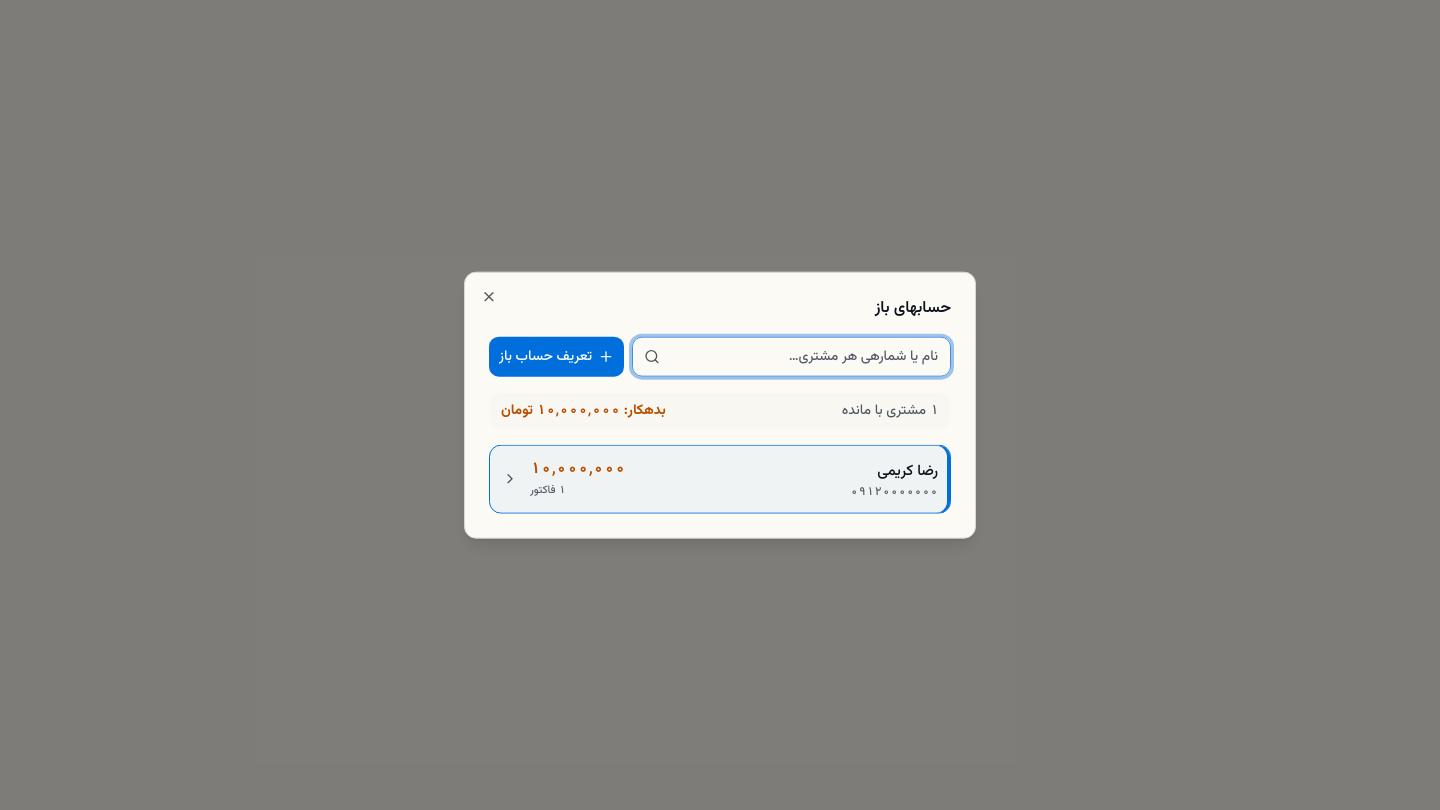
it: حساب‌بازها — اصلاح نحوهٔ پرداخت › از پروندهٔ حساب، پنلِ اصلاحِ تقسیمِ پرداخت باز می‌شود
ردیفِ فهرست ← پروندهٔ حساب ← دکمهٔ «نحوهٔ پرداخت» روی همان نوبت.
Click the button "رضا کریمی ۰۹۱۲۰۰۰۰۰۰۰ ۱۰٬۰۰۰٬۰۰۰ ۱ فاکتور".
click(908, 471)  # box top-left (489, 445), bottom-right (951, 513)
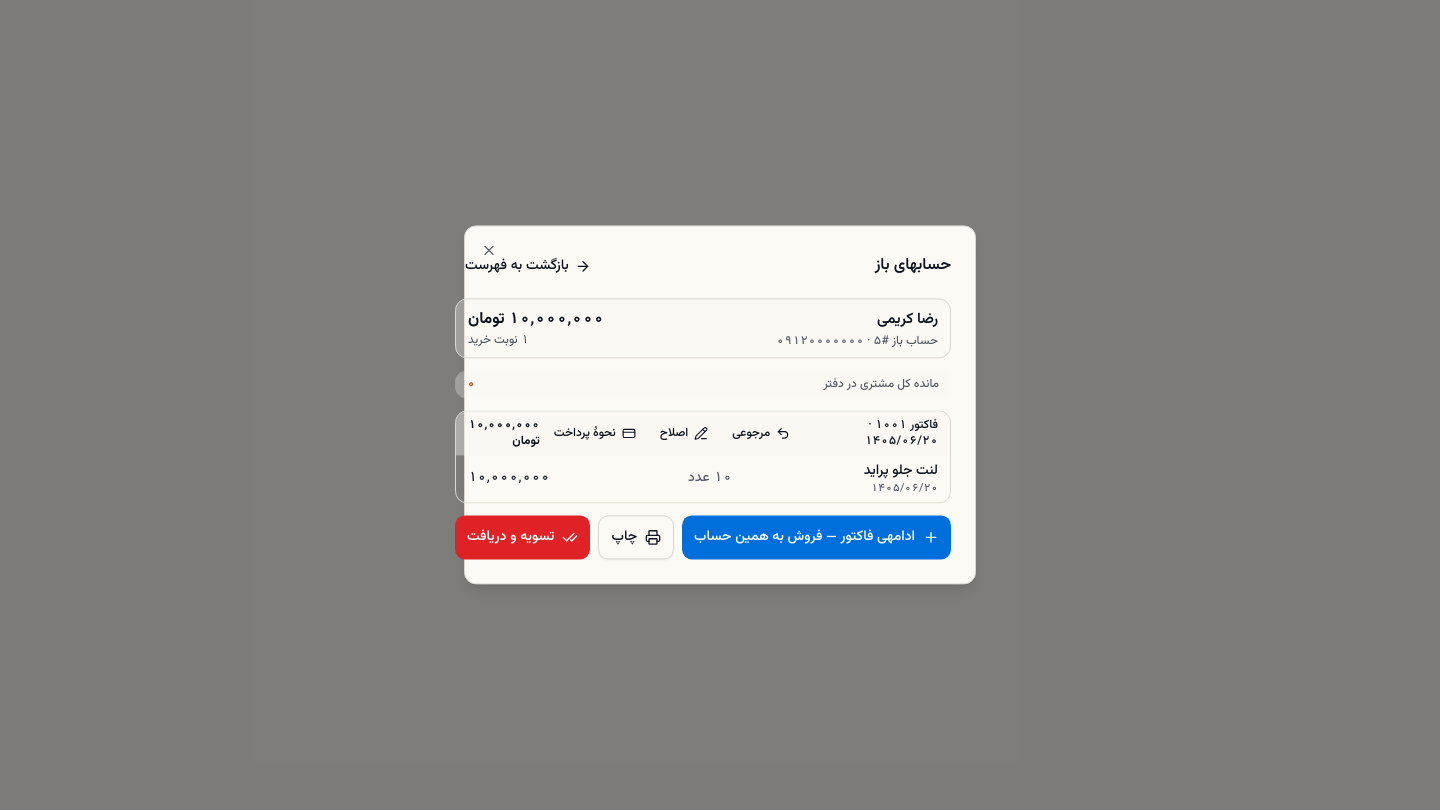
Click the button "نحوهٔ پرداخت".
click(595, 433)  # box top-left (544, 419), bottom-right (646, 447)
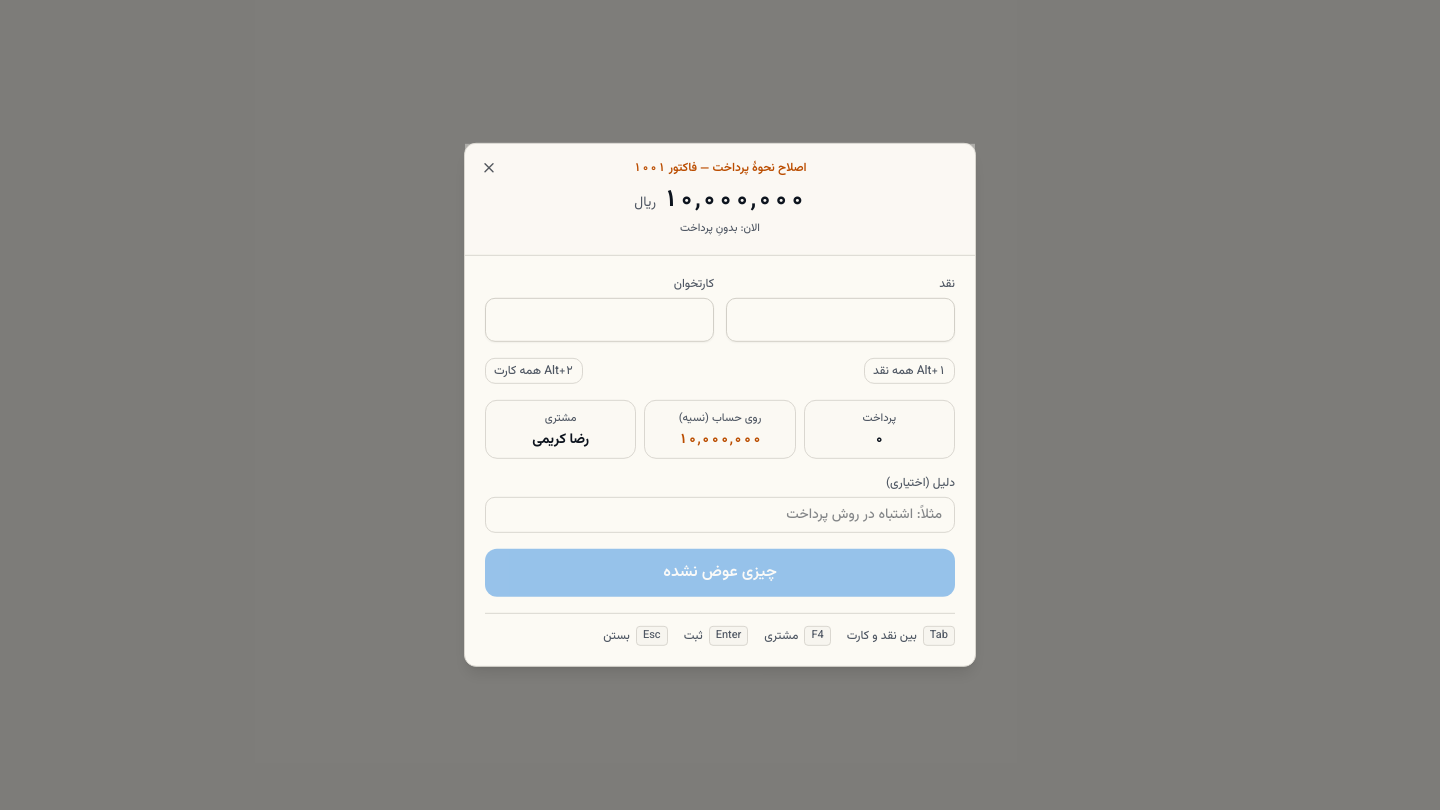
Result: the text "اصلاح نحوهٔ پرداخت — فاکتور ۱۰۰۱" is shown at top-left (633, 159), bottom-right (807, 177)
